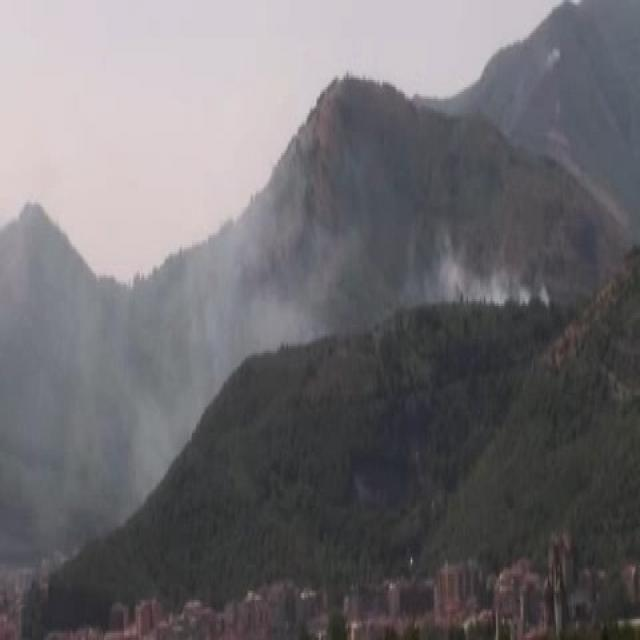smoke: (170, 196, 308, 366), (425, 249, 538, 307)
